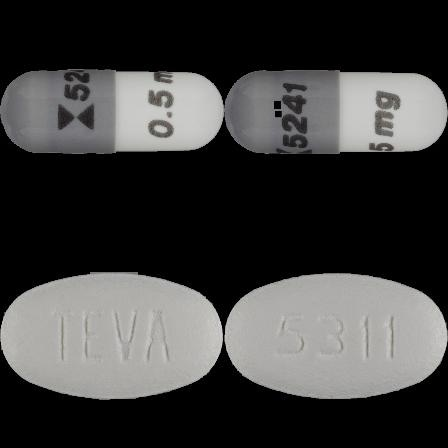0172-5241: (0, 0, 224, 224)
